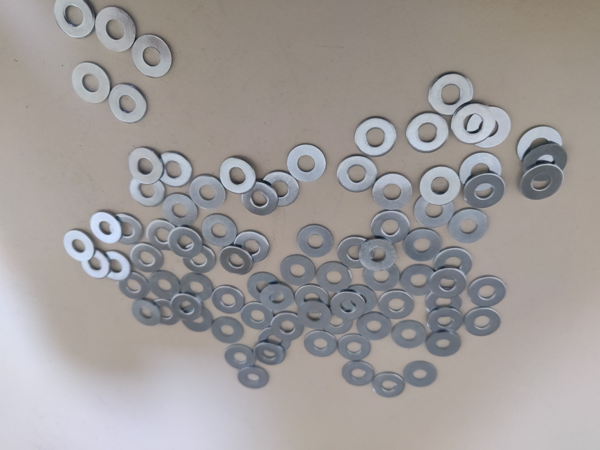circle: (428, 72, 476, 117), (465, 105, 511, 149), (94, 7, 138, 53), (450, 102, 496, 145), (70, 61, 113, 107), (405, 111, 450, 154), (131, 34, 173, 80), (516, 126, 564, 166), (459, 151, 502, 193), (285, 143, 328, 185), (354, 116, 398, 157), (52, 0, 97, 40), (521, 144, 567, 183), (419, 165, 461, 206), (109, 82, 148, 126), (336, 153, 378, 193), (519, 163, 564, 200), (259, 169, 301, 208), (463, 172, 506, 209), (372, 172, 412, 211), (218, 156, 258, 195), (369, 209, 411, 246), (414, 192, 456, 229), (448, 208, 489, 245), (403, 226, 443, 263), (144, 217, 184, 254), (161, 193, 200, 230), (240, 180, 278, 217), (188, 174, 226, 211), (157, 149, 193, 187), (278, 253, 316, 289), (127, 146, 162, 185), (178, 242, 218, 276), (424, 286, 464, 320), (128, 172, 165, 208), (434, 246, 473, 280), (467, 276, 507, 309), (88, 210, 124, 246), (109, 212, 145, 248), (234, 230, 271, 265), (297, 224, 334, 259), (337, 235, 374, 270), (200, 213, 238, 247), (359, 238, 397, 272), (316, 261, 353, 295), (363, 260, 401, 293), (339, 283, 377, 316), (400, 264, 436, 298), (128, 241, 165, 274), (430, 266, 467, 299), (296, 299, 333, 332), (146, 269, 183, 302), (319, 304, 356, 337), (377, 289, 415, 321), (178, 272, 214, 305), (167, 227, 204, 259), (356, 310, 393, 342), (240, 301, 277, 333), (218, 246, 255, 277), (178, 302, 215, 333), (464, 308, 502, 338), (63, 229, 96, 263), (97, 249, 131, 282), (331, 290, 366, 322), (294, 283, 329, 315), (302, 329, 339, 359), (211, 315, 245, 347), (116, 270, 151, 301), (402, 361, 439, 390), (426, 308, 464, 336), (78, 249, 112, 280), (211, 285, 245, 316), (392, 320, 427, 350), (269, 312, 304, 342), (148, 297, 183, 327), (426, 330, 462, 359), (371, 370, 405, 400), (337, 333, 371, 363), (246, 272, 280, 302), (259, 282, 293, 312), (129, 298, 164, 327), (251, 341, 288, 368), (170, 292, 203, 322), (223, 343, 257, 372), (236, 364, 271, 392), (342, 360, 373, 388)
